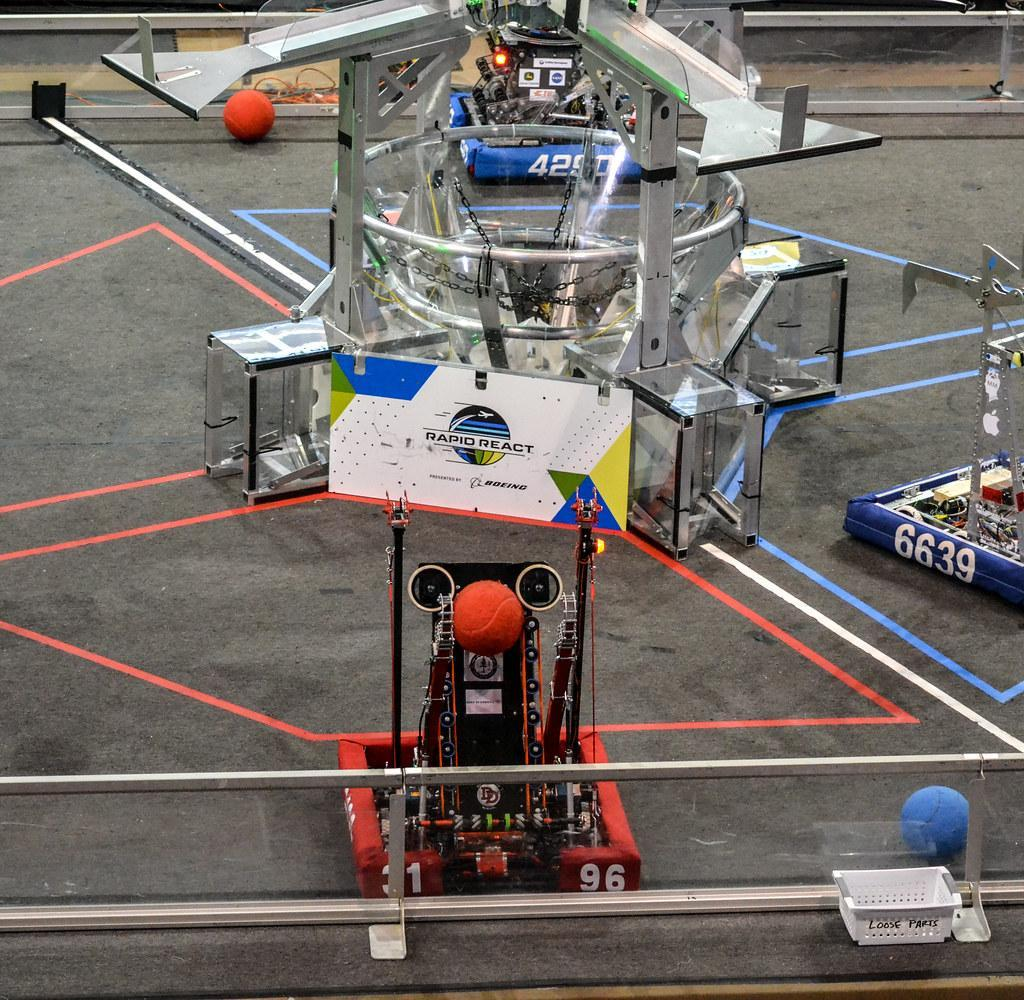robot: (336, 490, 654, 906), (842, 236, 1024, 618), (434, 0, 680, 188)
